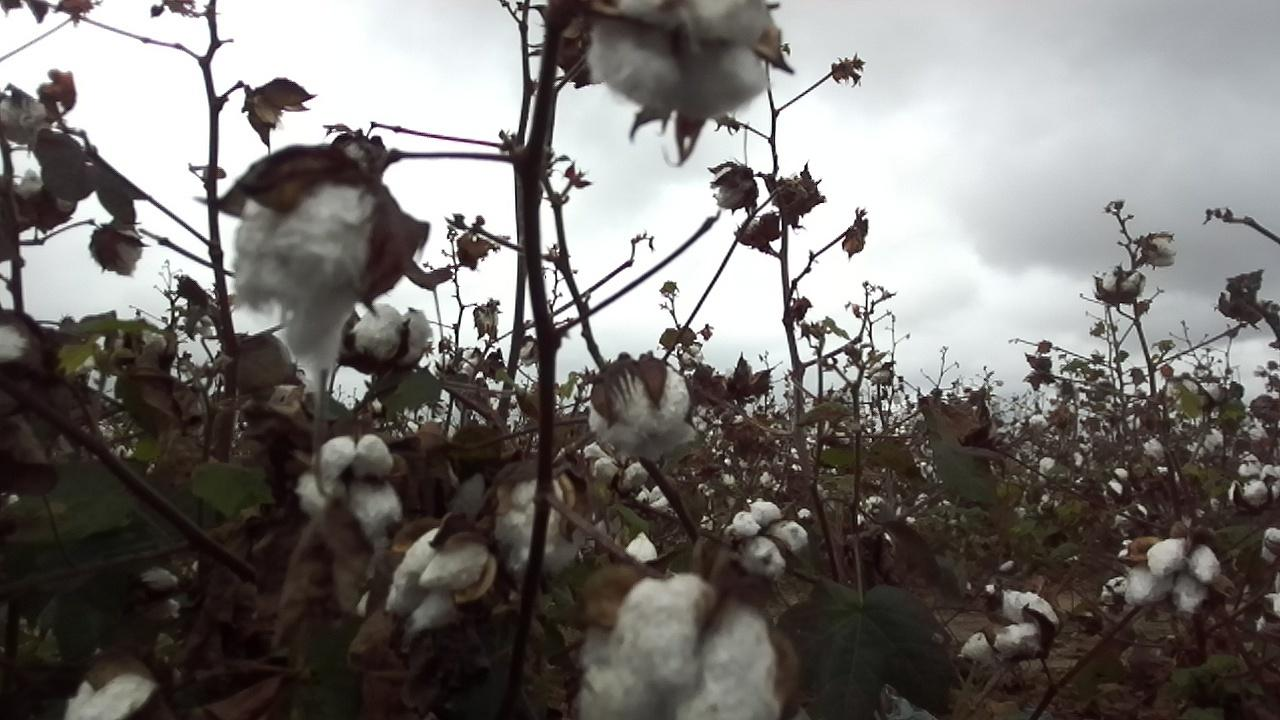cotton_ready: (229, 182, 385, 370), (584, 575, 777, 720), (589, 0, 770, 112), (297, 432, 409, 541), (388, 529, 495, 630), (593, 359, 689, 459), (496, 477, 585, 577), (962, 585, 1059, 662), (1126, 542, 1217, 610), (348, 300, 432, 370), (730, 504, 807, 574), (61, 675, 162, 720), (108, 327, 170, 378), (0, 90, 52, 144), (587, 448, 649, 488), (713, 168, 754, 208), (0, 324, 30, 363), (1254, 595, 1280, 638), (624, 533, 656, 567)
